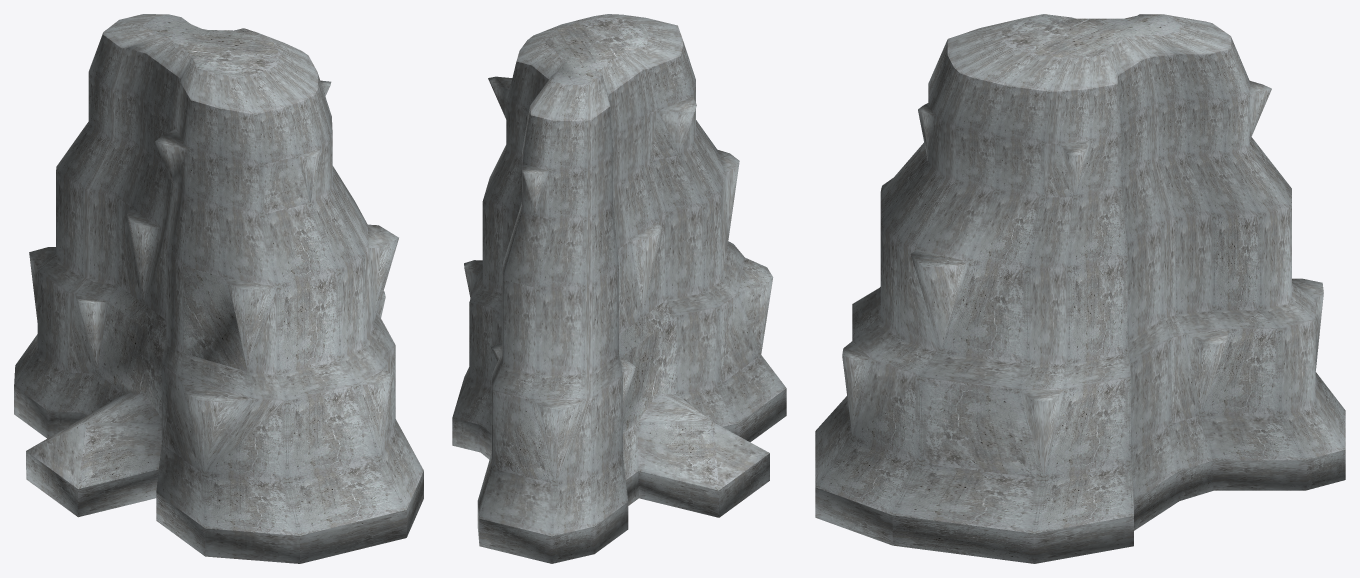
The model's file is montana_roca.fbx.
3 views of the same model, side by side, from view 1: azimuth 30°, elevation 25°; view 2: azimuth 150°, elevation 25°; view 3: azimuth 270°, elevation 25° (orthographic). The views are drawn at different scales.
Parts seen in each view (by area): view 1: Plane001; view 2: Plane001; view 3: Plane001.
Boxes of the visible parts, bbox=[...] form: Plane001: bbox=[14, 14, 423, 563]; Plane001: bbox=[452, 14, 786, 563]; Plane001: bbox=[815, 14, 1345, 563].
Bounding box in the file's own units: 39.79 × 54.11 × 50.61.
Materials: 1 (1 with a texture image).
